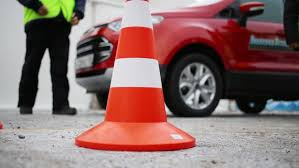car: (77, 1, 299, 115)
cone: (74, 1, 195, 153)
